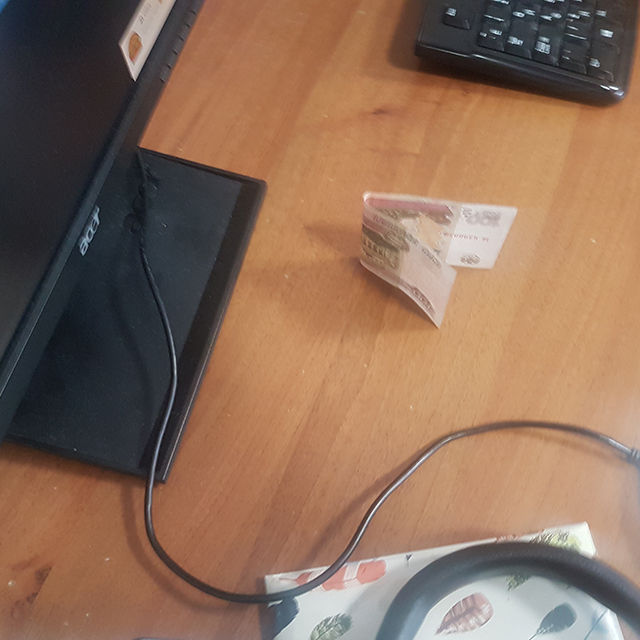banknotes: (358, 192, 518, 330)
